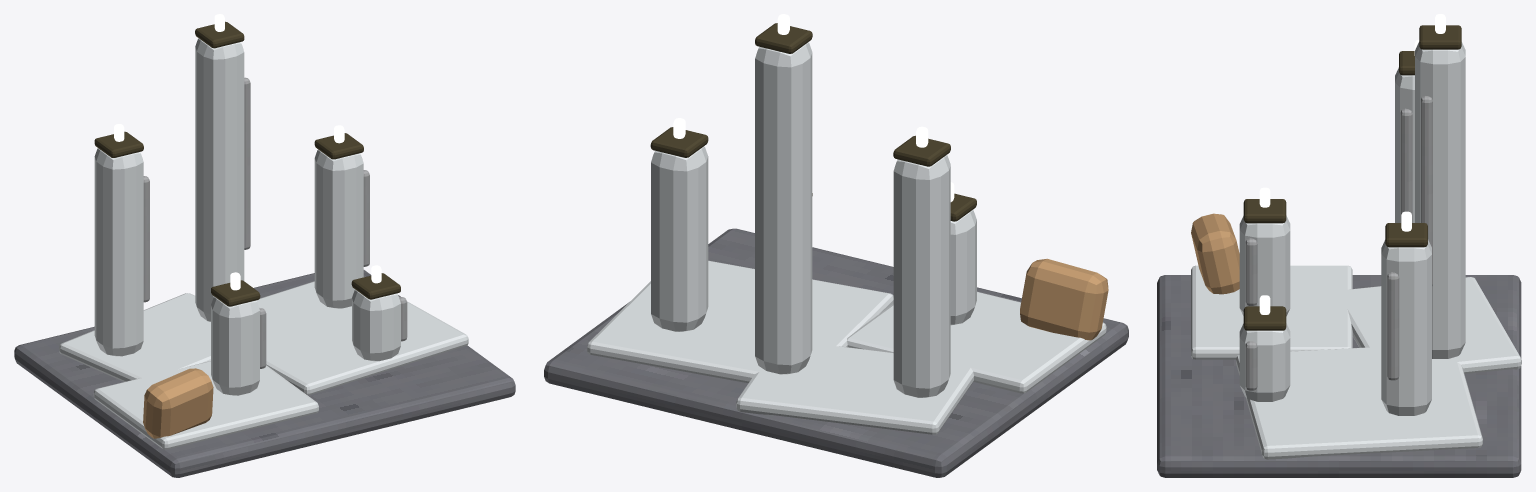
File: cult_wax_shrine.glb
The picture shows the model from 3 angles, left to right: view 1: azimuth 30°, elevation 25°; view 2: azimuth 150°, elevation 25°; view 3: azimuth 270°, elevation 25°; orthographic projection. The views are drawn at different scales.
Parts seen in each view (by area): view 1: CULT_WAX_SHRINE__Borrowed_Tray, CULT_WAX_SHRINE__Candle_1, CULT_WAX_SHRINE__Wax_Pool_1, CULT_WAX_SHRINE__Candle_0, CULT_WAX_SHRINE__Wax_Pool_0, CULT_WAX_SHRINE__Candle_2, CULT_WAX_SHRINE__Wax_Pool_2, CULT_WAX_SHRINE__Candle_3, CULT_WAX_SHRINE__Folded_Charm, CULT_WAX_SHRINE__Candle_4, CULT_WAX_SHRINE__Wax_Drip_1, CULT_WAX_SHRINE__Wax_Drip_0 (+6 smaller); view 2: CULT_WAX_SHRINE__Borrowed_Tray, CULT_WAX_SHRINE__Candle_1, CULT_WAX_SHRINE__Wax_Pool_1, CULT_WAX_SHRINE__Candle_0, CULT_WAX_SHRINE__Wax_Pool_2, CULT_WAX_SHRINE__Candle_2, CULT_WAX_SHRINE__Wax_Pool_0, CULT_WAX_SHRINE__Folded_Charm, CULT_WAX_SHRINE__Candle_3, CULT_WAX_SHRINE__Burnt_Rim_2, CULT_WAX_SHRINE__Burnt_Rim_0, CULT_WAX_SHRINE__Burnt_Rim_1; view 3: CULT_WAX_SHRINE__Borrowed_Tray, CULT_WAX_SHRINE__Wax_Pool_1, CULT_WAX_SHRINE__Candle_1, CULT_WAX_SHRINE__Wax_Pool_0, CULT_WAX_SHRINE__Candle_2, CULT_WAX_SHRINE__Wax_Pool_2, CULT_WAX_SHRINE__Candle_3, CULT_WAX_SHRINE__Folded_Charm, CULT_WAX_SHRINE__Candle_4, CULT_WAX_SHRINE__Candle_0, CULT_WAX_SHRINE__Wax_Drip_1, CULT_WAX_SHRINE__Wax_Drip_2 (+8 smaller).
Boxes of the visible parts, x1,y1,x2,y2 form: CULT_WAX_SHRINE__Borrowed_Tray: [14, 270, 515, 477]; CULT_WAX_SHRINE__Candle_1: [195, 38, 244, 321]; CULT_WAX_SHRINE__Wax_Pool_1: [194, 281, 468, 395]; CULT_WAX_SHRINE__Candle_0: [94, 148, 143, 356]; CULT_WAX_SHRINE__Wax_Pool_0: [93, 361, 318, 449]; CULT_WAX_SHRINE__Candle_2: [314, 149, 363, 308]; CULT_WAX_SHRINE__Wax_Pool_2: [59, 293, 272, 381]; CULT_WAX_SHRINE__Candle_3: [211, 296, 259, 395]; CULT_WAX_SHRINE__Folded_Charm: [143, 368, 213, 438]; CULT_WAX_SHRINE__Candle_4: [352, 289, 400, 361]; CULT_WAX_SHRINE__Wax_Drip_1: [244, 77, 250, 249]; CULT_WAX_SHRINE__Wax_Drip_0: [143, 176, 149, 302]; CULT_WAX_SHRINE__Borrowed_Tray: [544, 228, 1128, 477]; CULT_WAX_SHRINE__Candle_1: [755, 42, 812, 374]; CULT_WAX_SHRINE__Wax_Pool_1: [587, 260, 893, 383]; CULT_WAX_SHRINE__Candle_0: [893, 155, 950, 397]; CULT_WAX_SHRINE__Wax_Pool_2: [736, 343, 973, 434]; CULT_WAX_SHRINE__Candle_2: [651, 146, 708, 331]; CULT_WAX_SHRINE__Wax_Pool_0: [847, 291, 1106, 393]; CULT_WAX_SHRINE__Folded_Charm: [1020, 258, 1108, 340]; CULT_WAX_SHRINE__Candle_3: [950, 210, 976, 325]; CULT_WAX_SHRINE__Burnt_Rim_2: [650, 127, 708, 157]; CULT_WAX_SHRINE__Burnt_Rim_0: [893, 135, 950, 166]; CULT_WAX_SHRINE__Burnt_Rim_1: [755, 23, 812, 53]; CULT_WAX_SHRINE__Borrowed_Tray: [1157, 275, 1521, 477]; CULT_WAX_SHRINE__Wax_Pool_1: [1236, 347, 1482, 459]; CULT_WAX_SHRINE__Candle_1: [1415, 42, 1465, 358]; CULT_WAX_SHRINE__Wax_Pool_0: [1191, 265, 1352, 359]; CULT_WAX_SHRINE__Candle_2: [1381, 239, 1431, 415]; CULT_WAX_SHRINE__Wax_Pool_2: [1338, 277, 1521, 373]; CULT_WAX_SHRINE__Candle_3: [1239, 215, 1290, 316]; CULT_WAX_SHRINE__Folded_Charm: [1191, 213, 1239, 294]; CULT_WAX_SHRINE__Candle_4: [1239, 323, 1290, 401]; CULT_WAX_SHRINE__Candle_0: [1395, 67, 1414, 222]; CULT_WAX_SHRINE__Wax_Drip_1: [1421, 95, 1432, 285]; CULT_WAX_SHRINE__Wax_Drip_2: [1387, 272, 1399, 380].
Bounding box in the file's own units: 0.6626 × 0.609 × 0.5407.
Materials: 6 (2 with a texture image).
